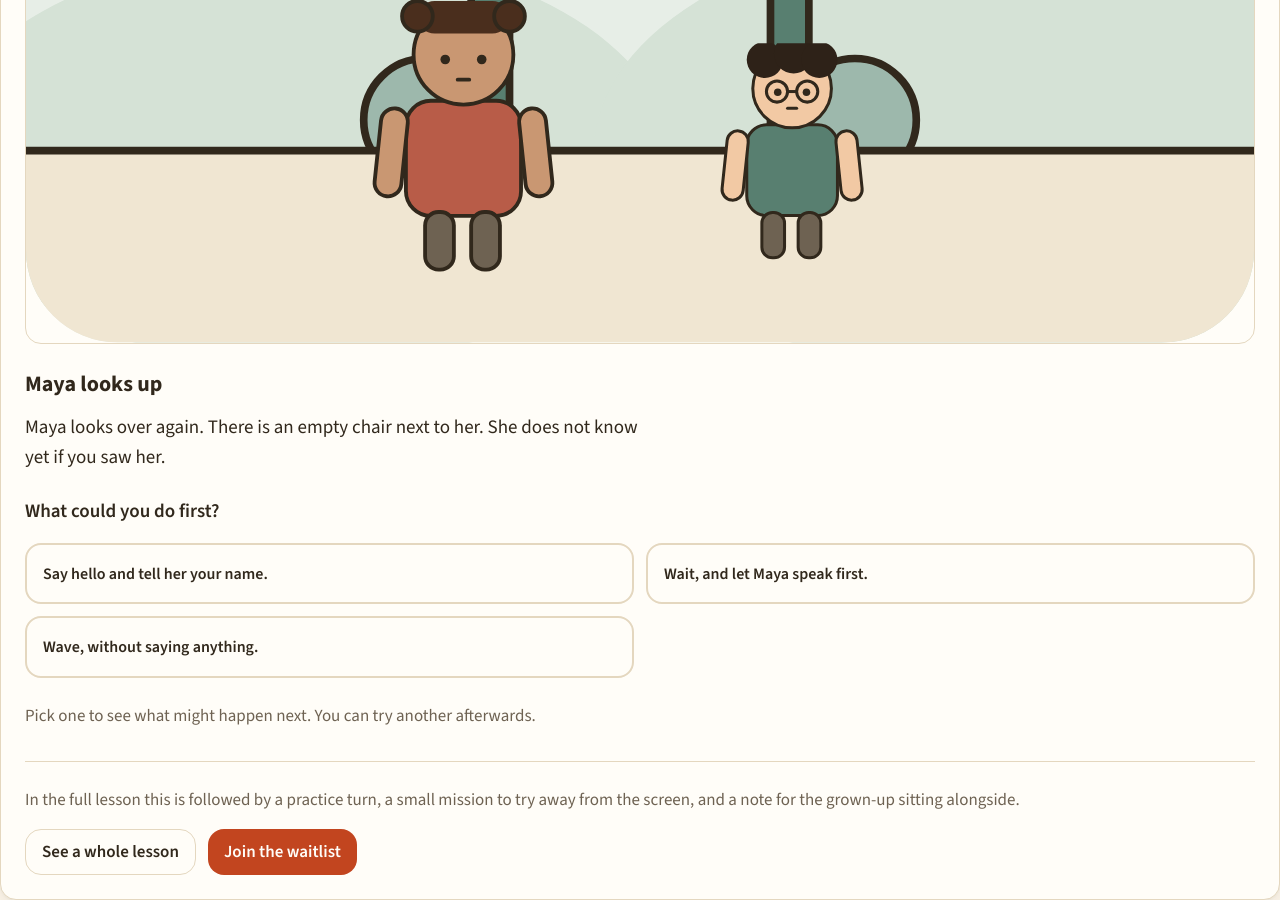
Test: SampleScenario › lets a visitor try a different answer and read that one instead
(page scrolled)
Step 1. Click the button "Say hello and tell her your name." → point(155, 573), box [25,543,634,604]
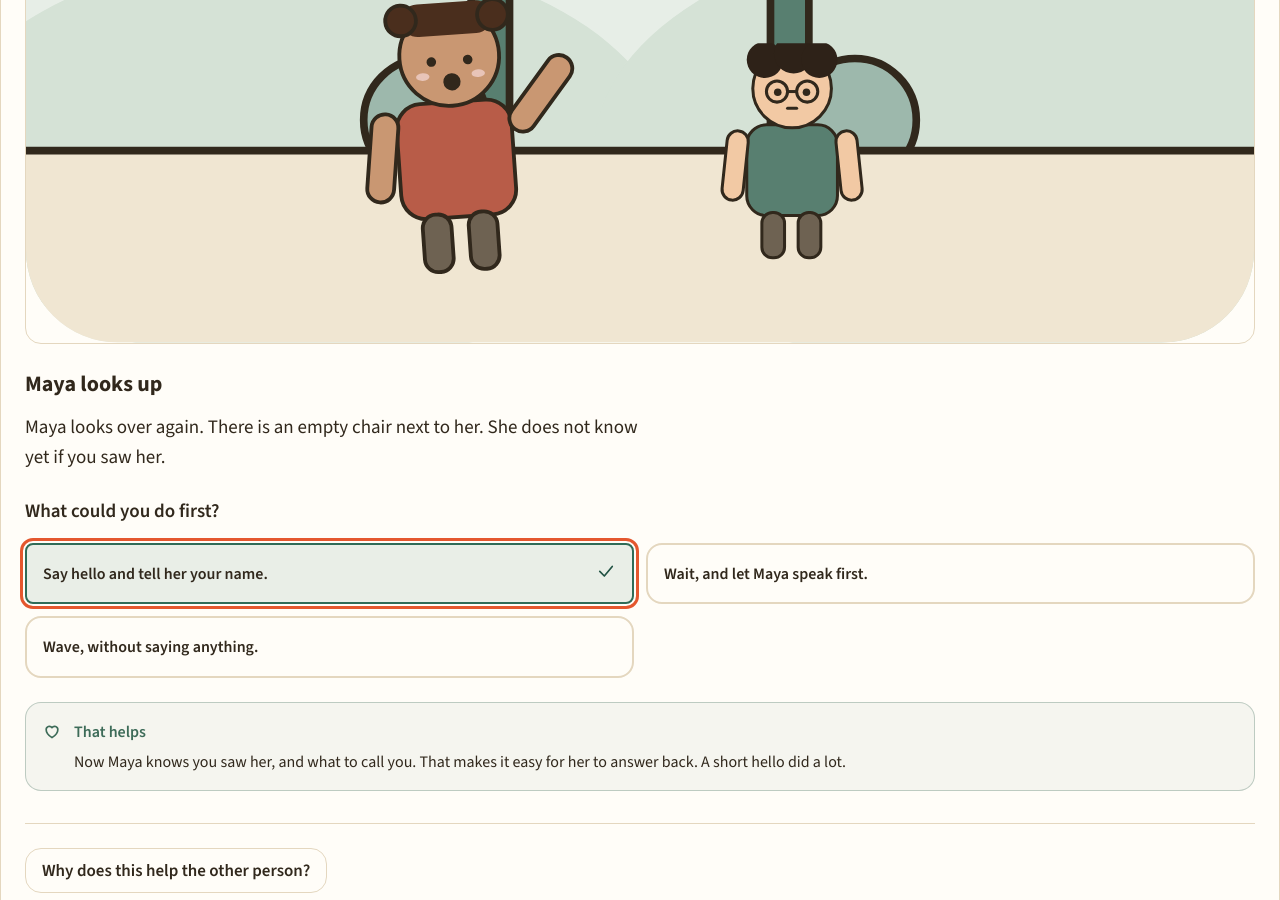
Step 2. Click the button "Wait, and let Maya speak first." → point(766, 573), box [646,543,1255,604]
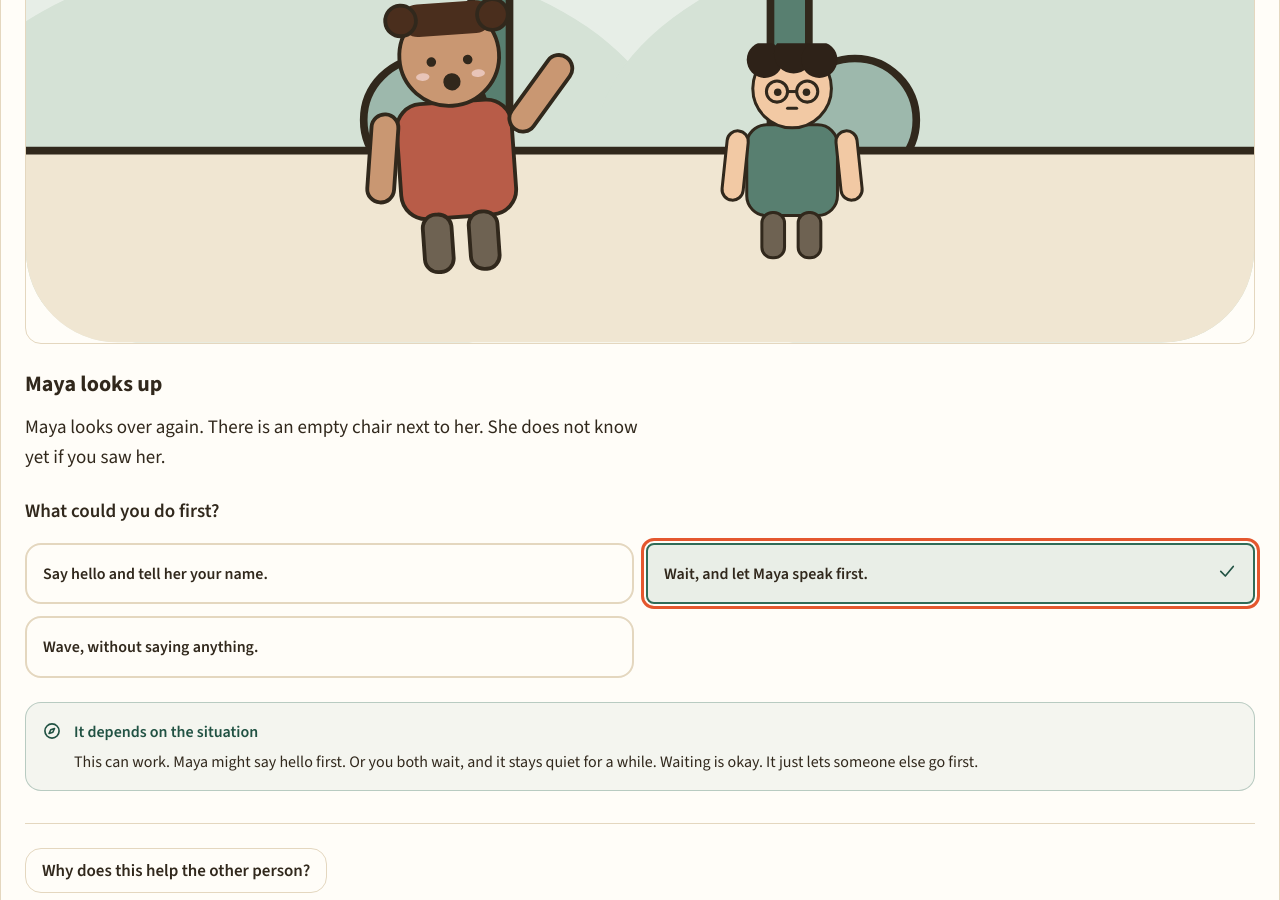
Expected: the text "This can work. Maya might say hello first. Or you both wait, and it stays quiet for a while. Waiting is okay. It just le" is shown, [74,751,978,772]
Expected: the text "Now Maya knows you saw her, and what to call you. That makes it easy for her to answer back. A short hello did a lot." is gone
